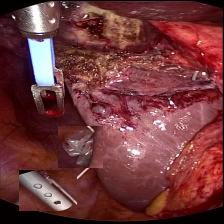Bipolar: (5, 2, 75, 118)
Irrigator: (20, 169, 78, 210)
Specimen Bag: (58, 125, 103, 167)
